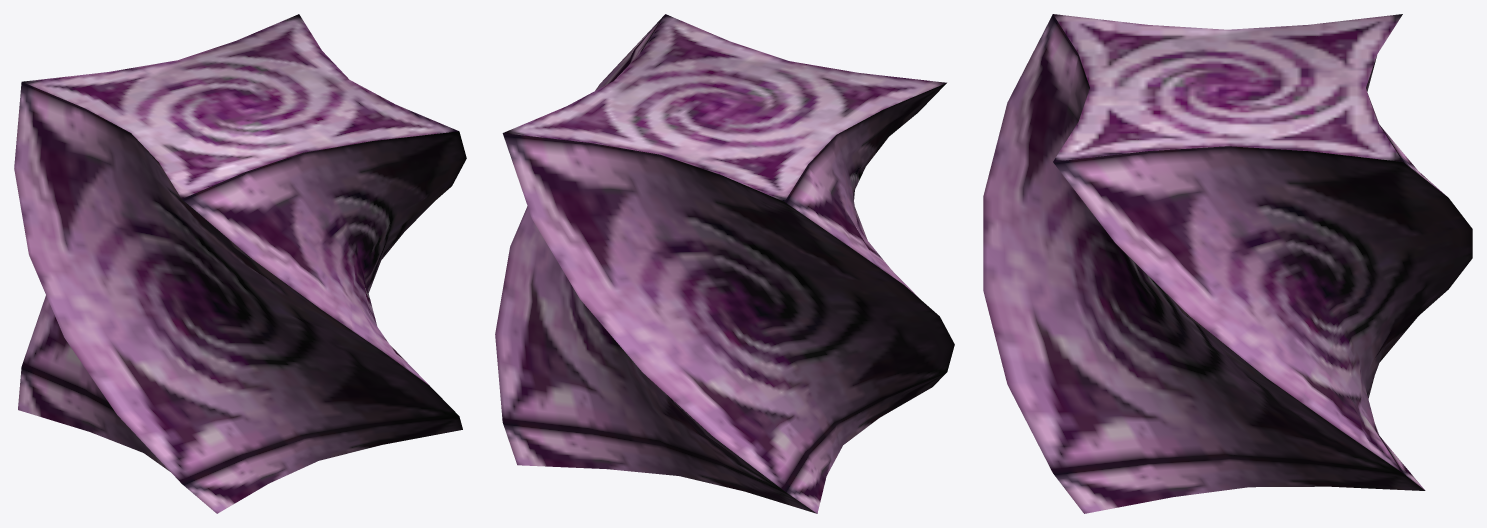
Rendered from PEDISTAL2.obj.
The picture shows the model from 3 angles, left to right: view 1: azimuth 30°, elevation 25°; view 2: azimuth 150°, elevation 25°; view 3: azimuth 270°, elevation 25°; orthographic projection. The views are drawn at different scales.
Parts seen in each view (by area): view 1: pedistal2; view 2: pedistal2; view 3: pedistal2.
Boxes of the visible parts, x1=… form: pedistal2: x1=14, y1=14, x2=466, y2=513; pedistal2: x1=495, y1=14, x2=954, y2=513; pedistal2: x1=983, y1=14, x2=1472, y2=513.
Size of the model in its own units: 143 by 110 by 143.
